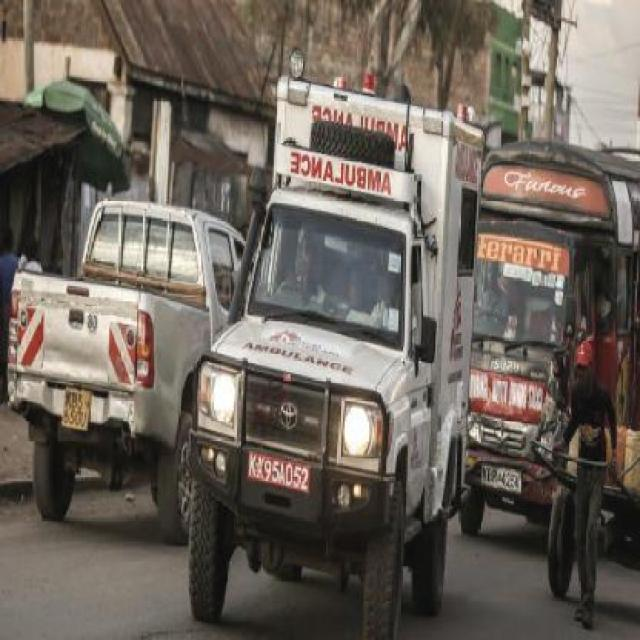emergency: (175, 50, 487, 636)
